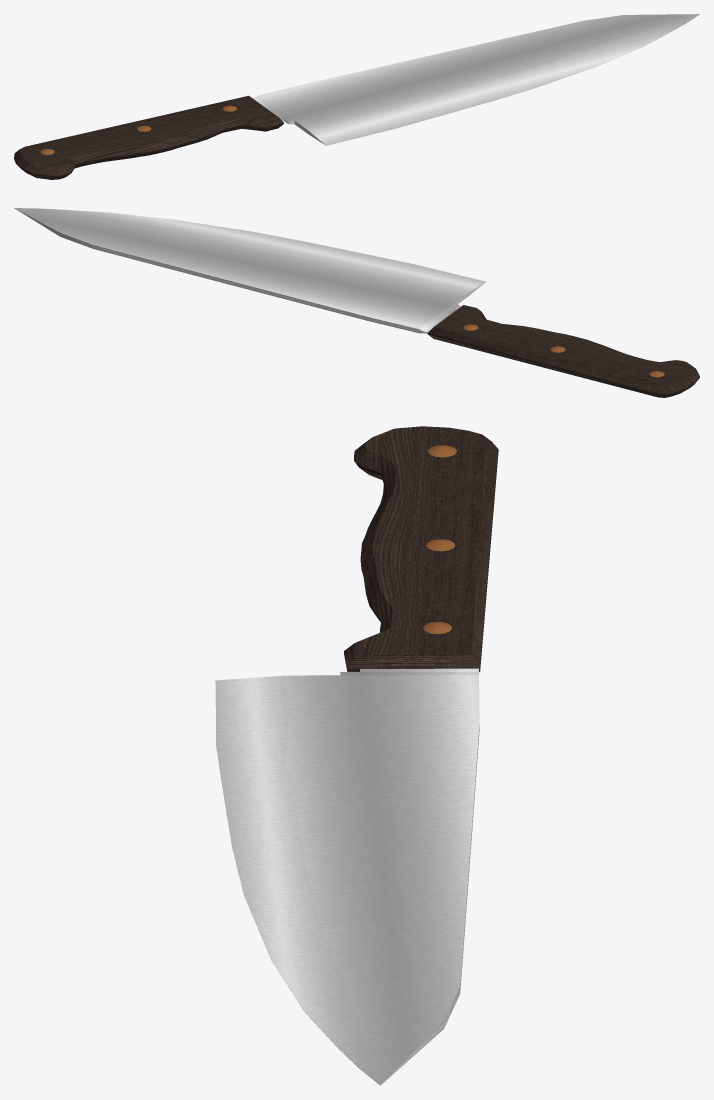
File: Knife.FBX
The picture shows the model from 3 angles, top to bottom: view 1: azimuth 30°, elevation 25°; view 2: azimuth 150°, elevation 25°; view 3: azimuth 270°, elevation 25°; orthographic projection. The views are drawn at different scales.
Parts seen in each view (by area): view 1: Box001; view 2: Box001; view 3: Box001.
Part boxes in pixels (bbox=[...]): Box001: bbox=[14, 14, 699, 179]; Box001: bbox=[14, 208, 699, 397]; Box001: bbox=[215, 426, 498, 1085].
Bounding box in the file's own units: 146 × 3.2 × 26.8.
Materials: 3 (3 with a texture image).
